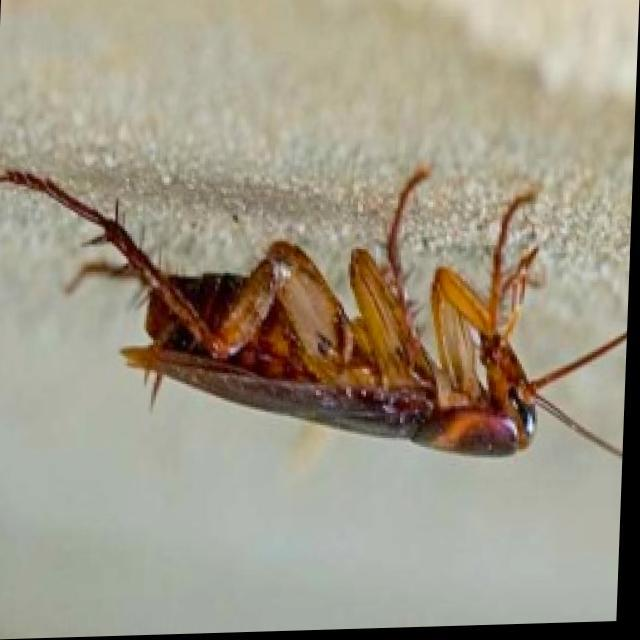cockroach: (3, 157, 626, 463)
